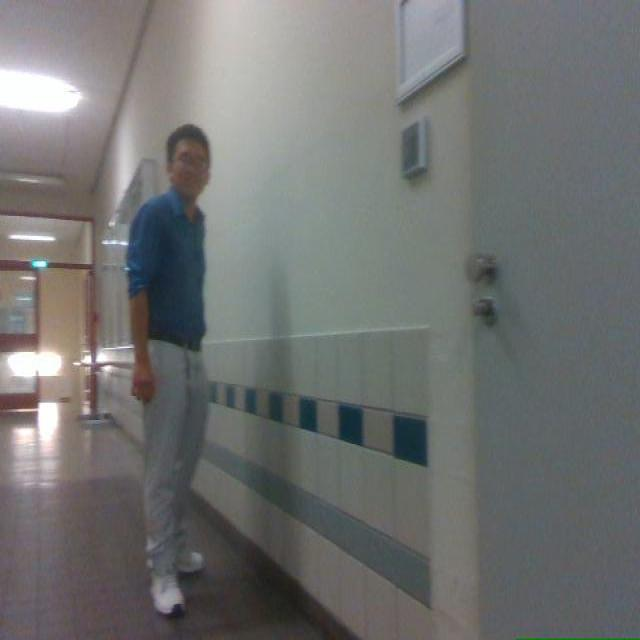humans: (127, 124, 209, 615)
